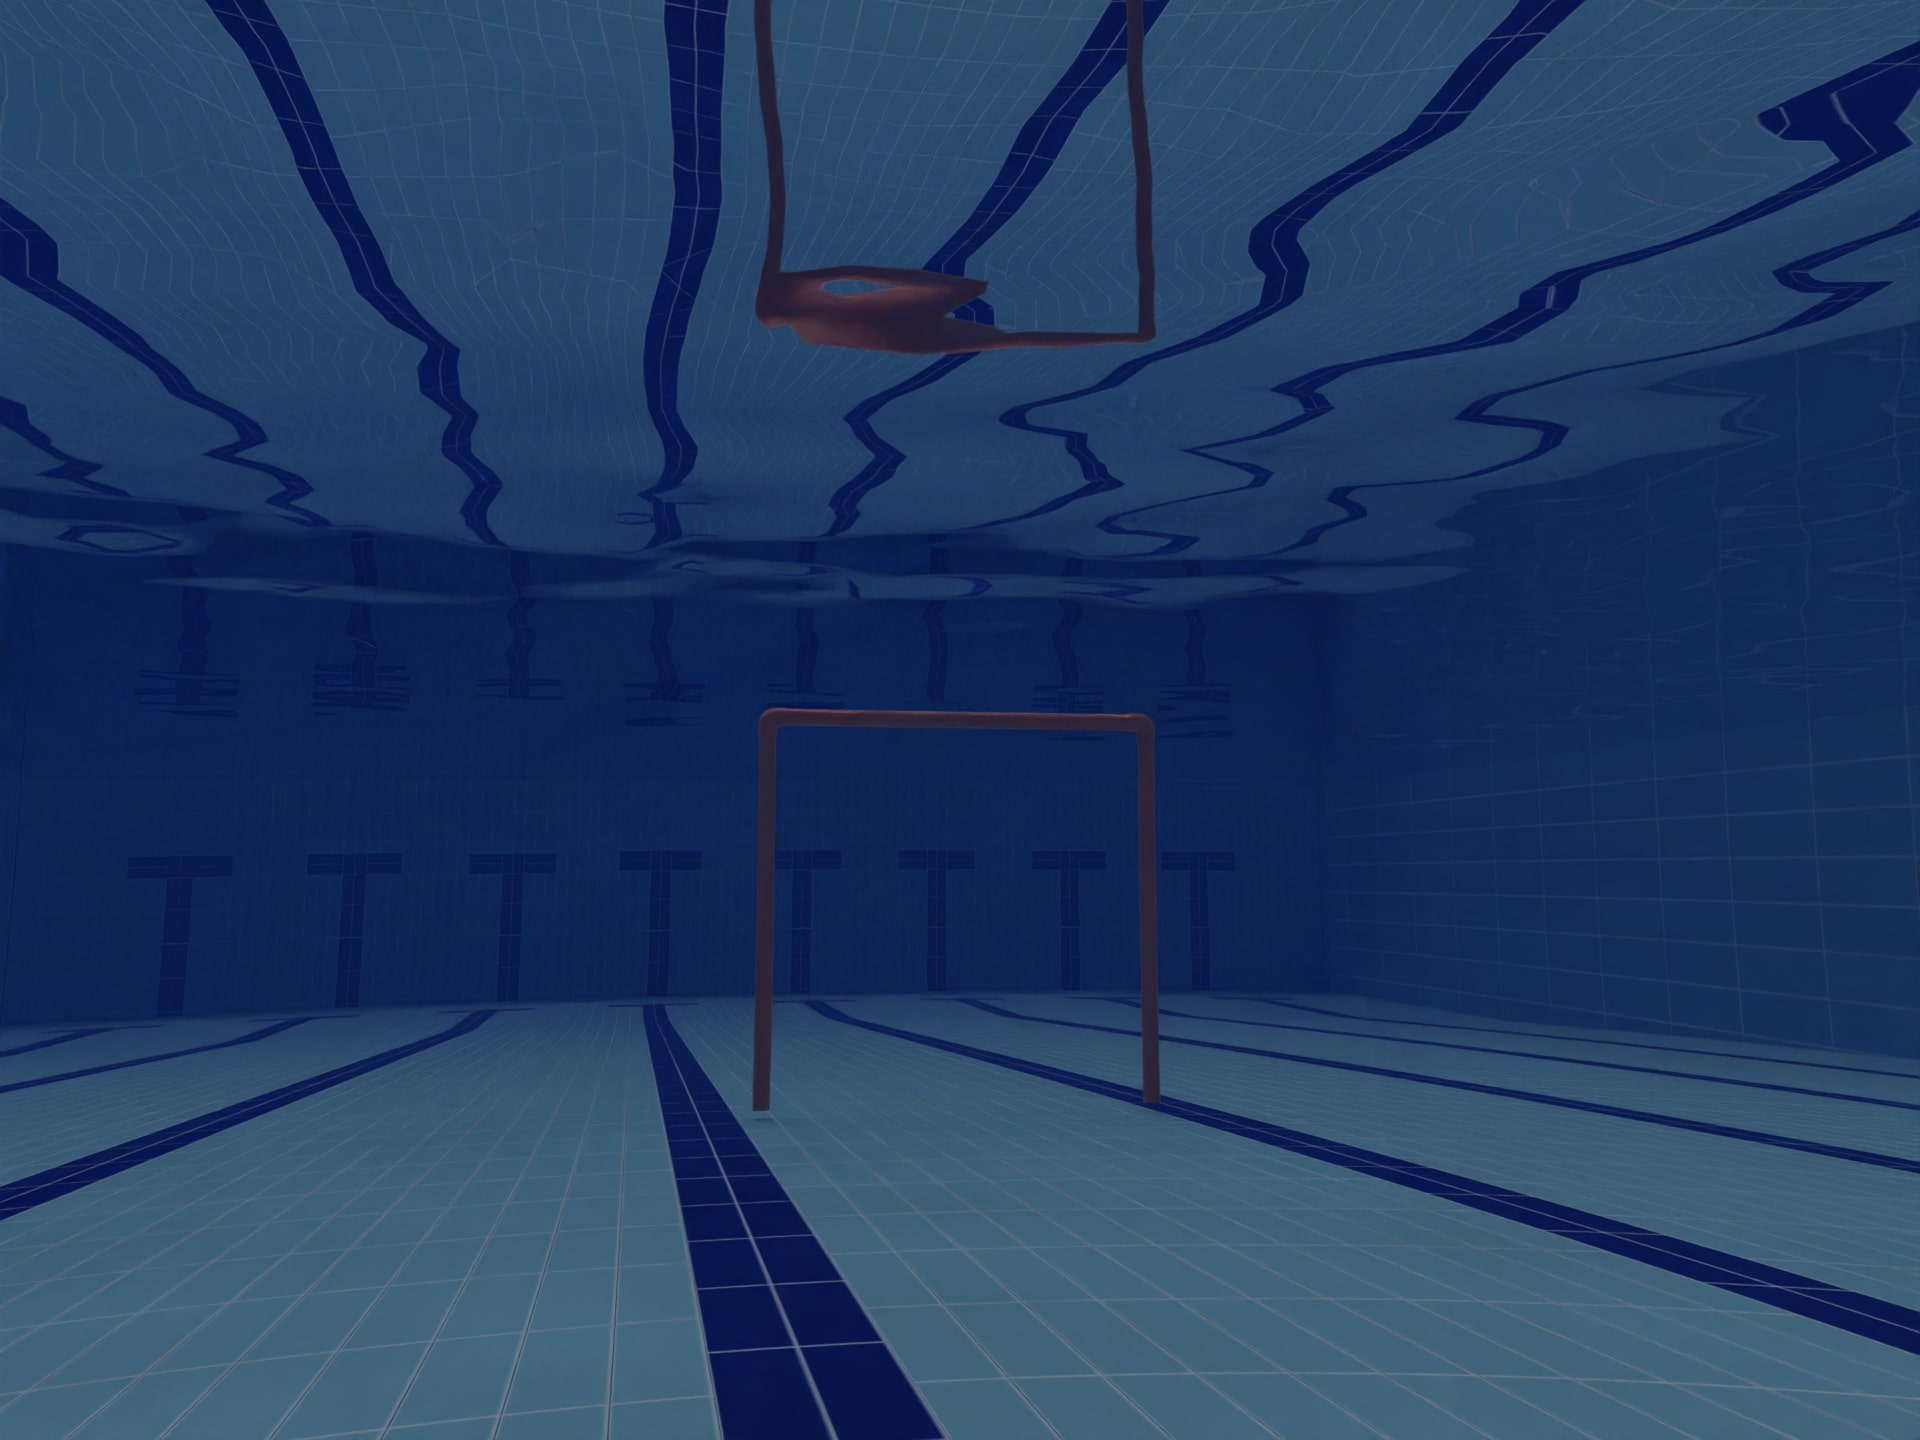gate: (738, 673, 1203, 1166)
